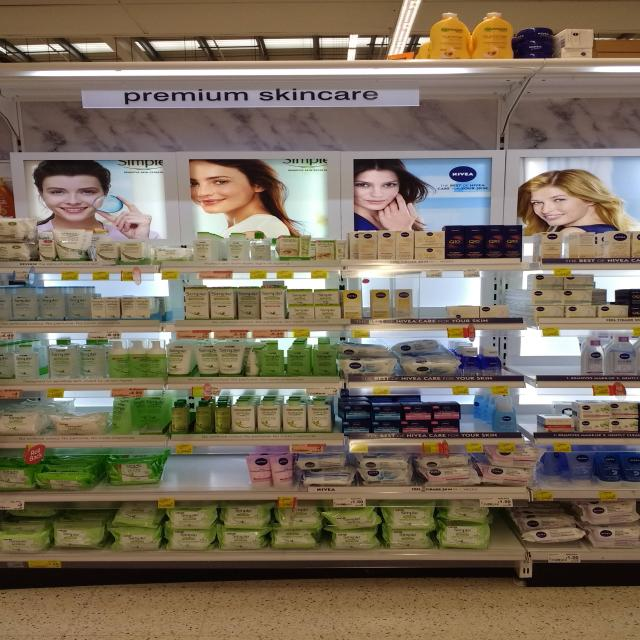void: (492, 331, 531, 386), (534, 337, 576, 388), (492, 500, 522, 564), (157, 282, 190, 332), (415, 284, 446, 336), (168, 448, 197, 503), (200, 448, 227, 499)
